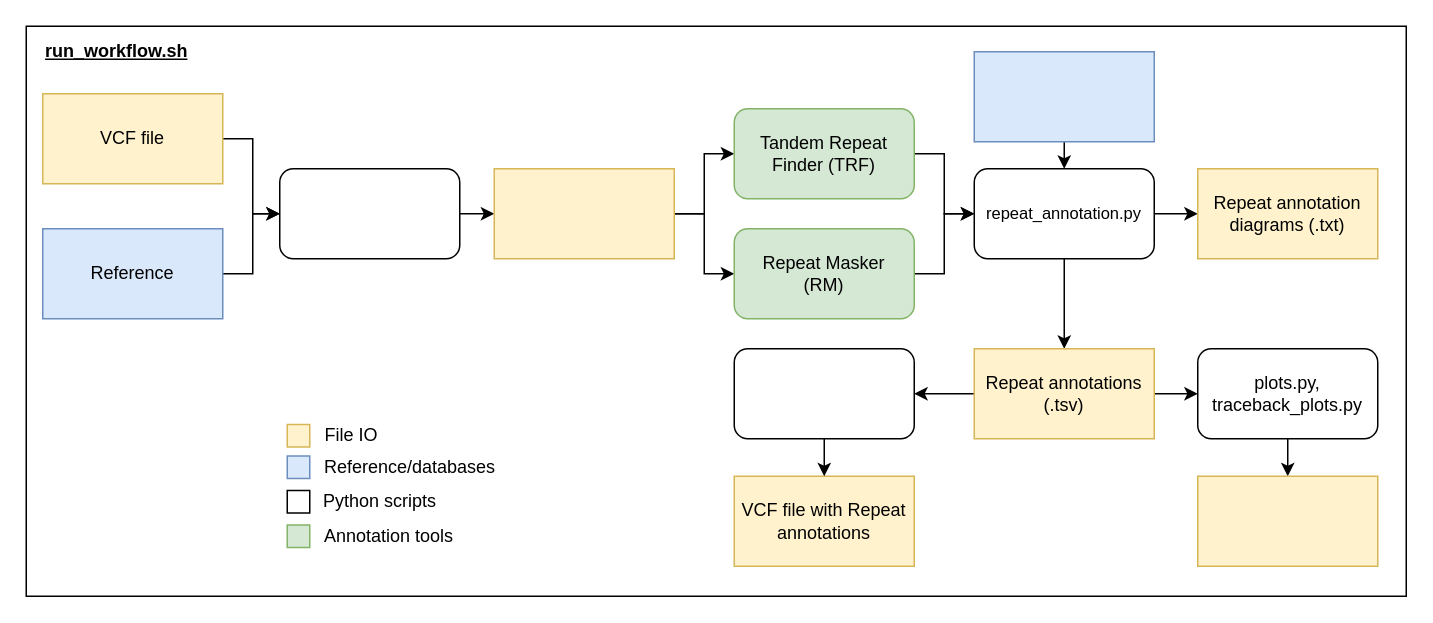
This 1433x623 diagram has some shape labels left out. Each missing label, with the centre of its shape:
annotate_vcf.py: pixel 823 393
extract_sv.py: pixel 369 213
Repeat/SV distribution plots, Decision tracebacks (.pdf): pixel 1287 520
STRchive bed file (optional): pixel 1063 96
SVs with flanking sequences (.fa): pixel 583 213
